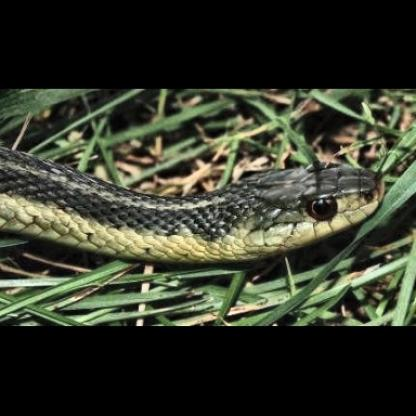Snake: (5, 112, 386, 269)
